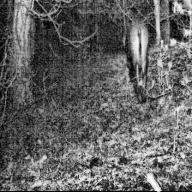boar: (114, 13, 151, 106)
